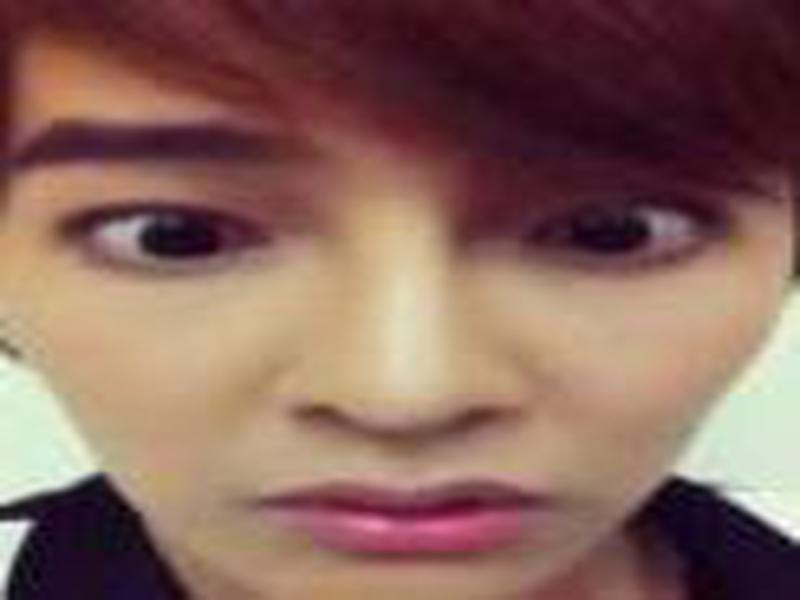without_mask: (8, 33, 785, 593)
